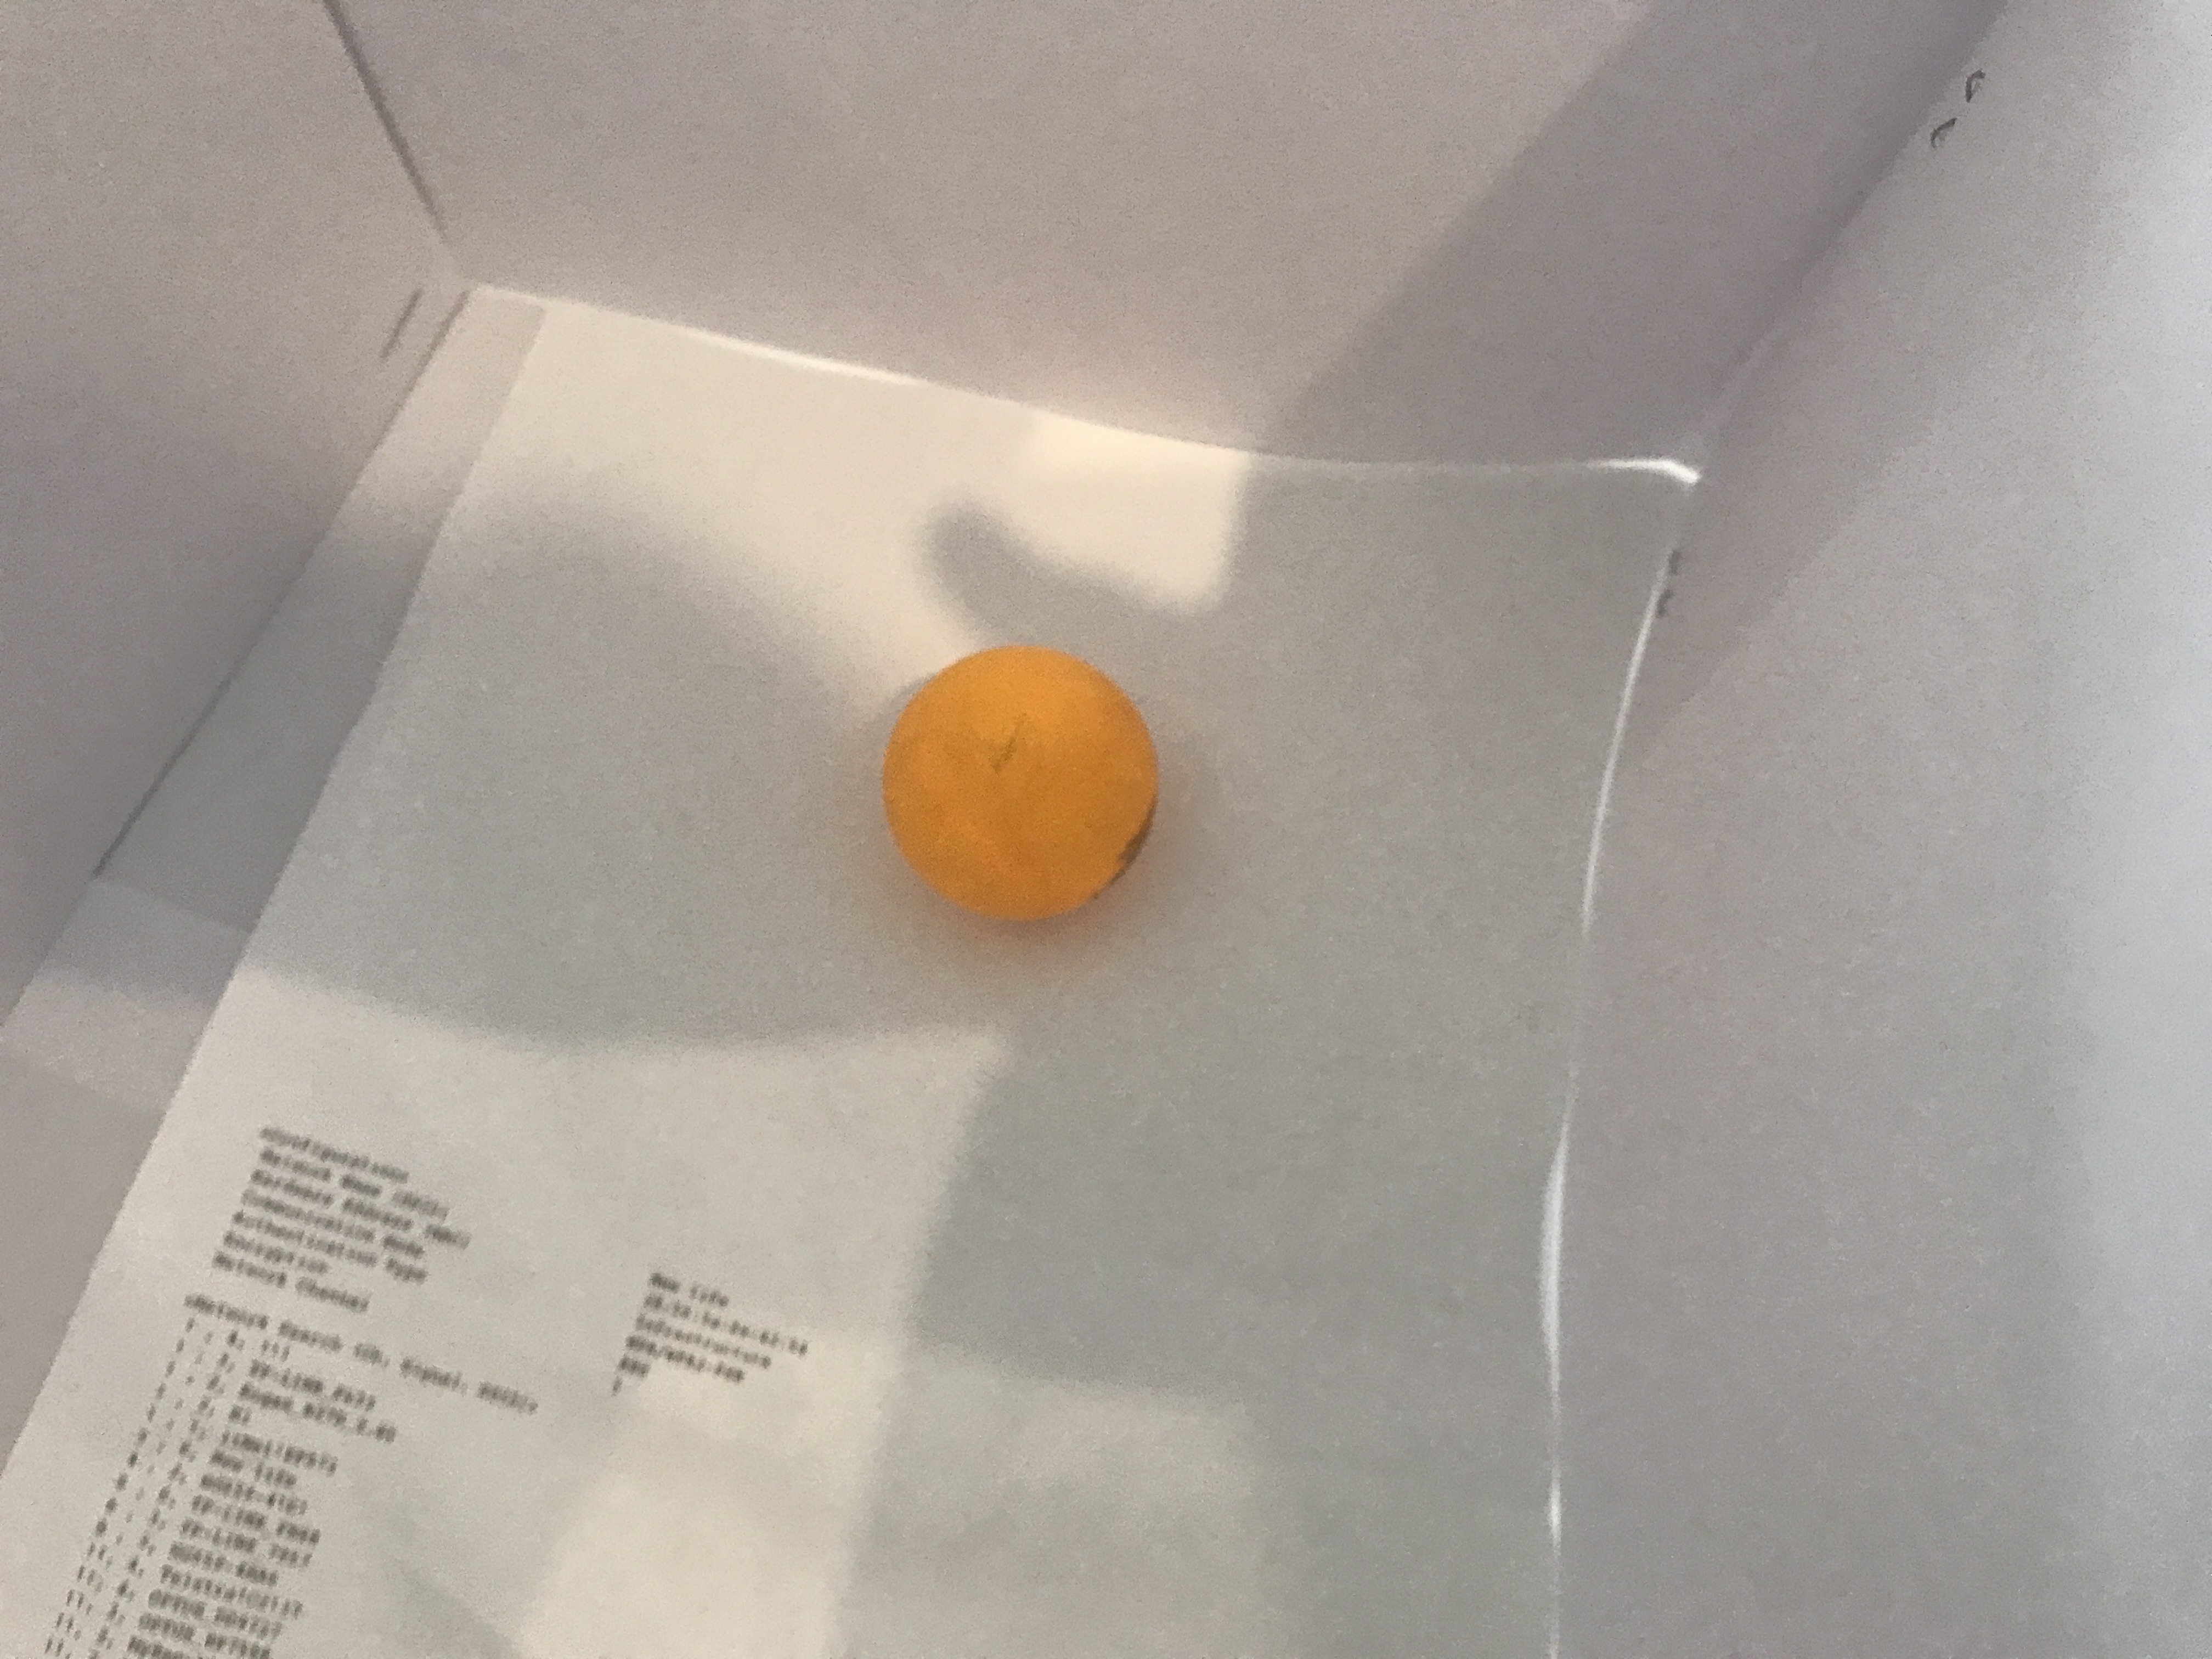pp: (881, 645, 1160, 924)
